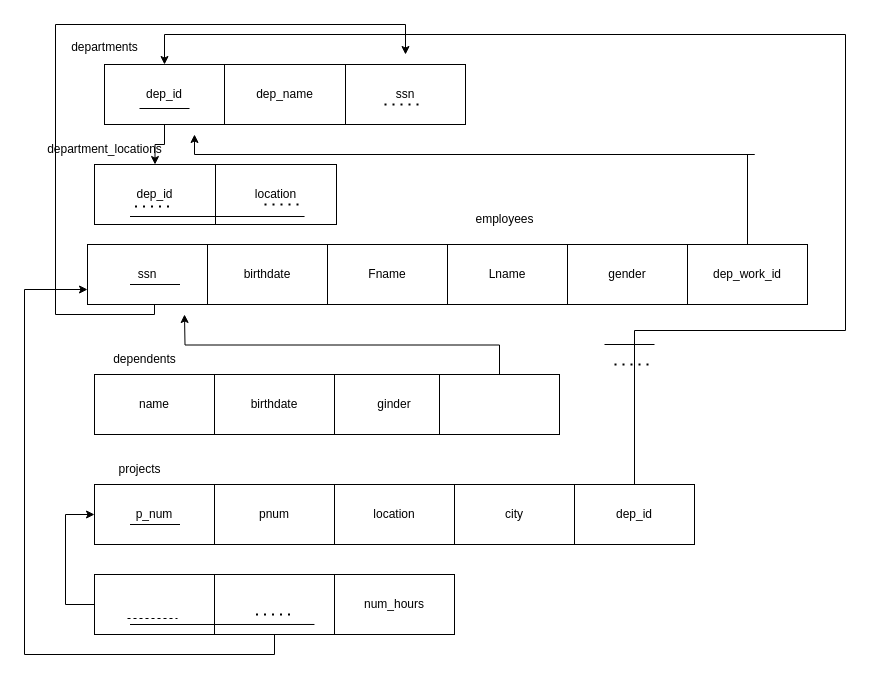
This 871x680 diagram has some shape labels left out. Here are the shapes that lost their labels. From the top down, the box of each, then its label:
(438, 374, 560, 434): emp_ssn
(94, 574, 214, 634): proj_id
(214, 574, 334, 634): emp_id
